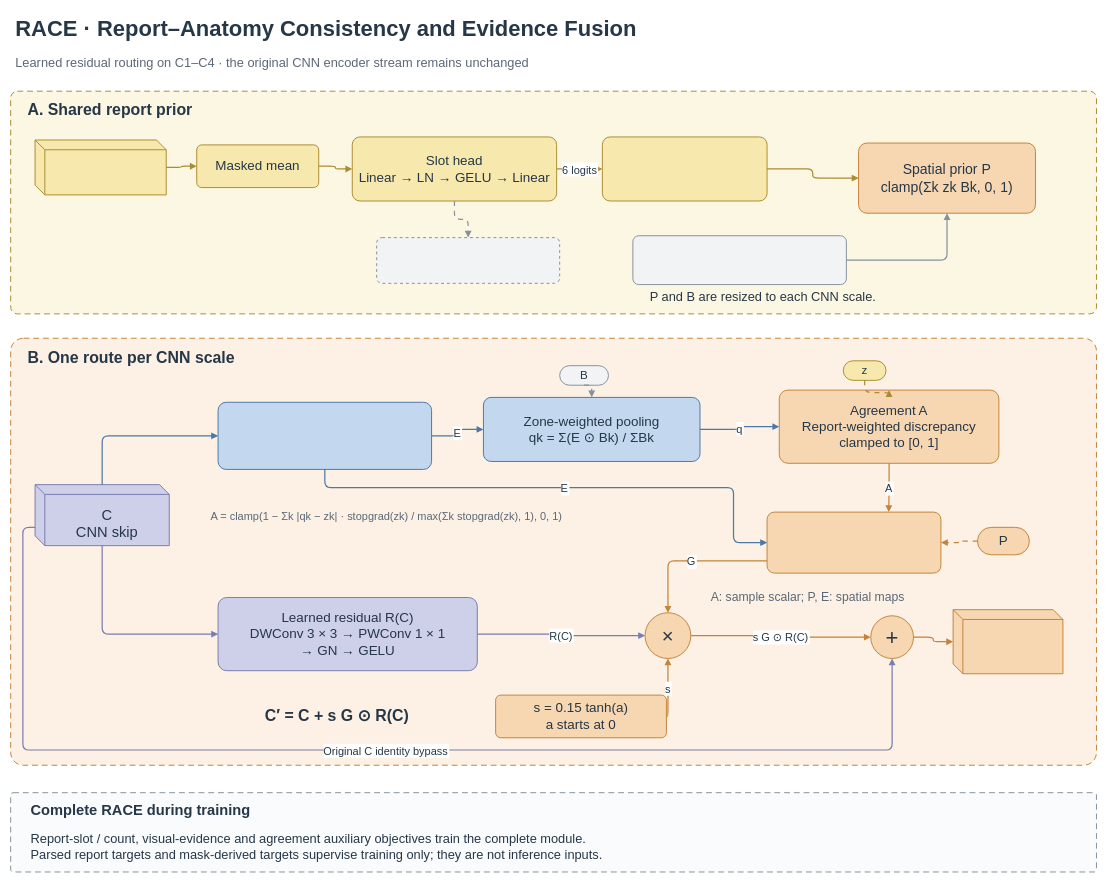
The diagram is 1108 pixels wide and 883 high, and some of its shapes have lost their labels. The shapes that lost their labels are listed below. From the top down, each one's centre as x and y in pixels, then its label:
[100,167]: T Text tokens
[684,168]: Sigmoid → z Six location scores
[468,260]: 3 count logits Auxiliary training only
[739,260]: B · six anatomical zones Aligned with image transforms
[324,436]: Visual evidence E 1 × 1 conv → GN → GELU → 1 × 1 conv → sigmoid
[853,542]: × G = P ⊙ E · A
[1007,641]: C′ Routed skip
